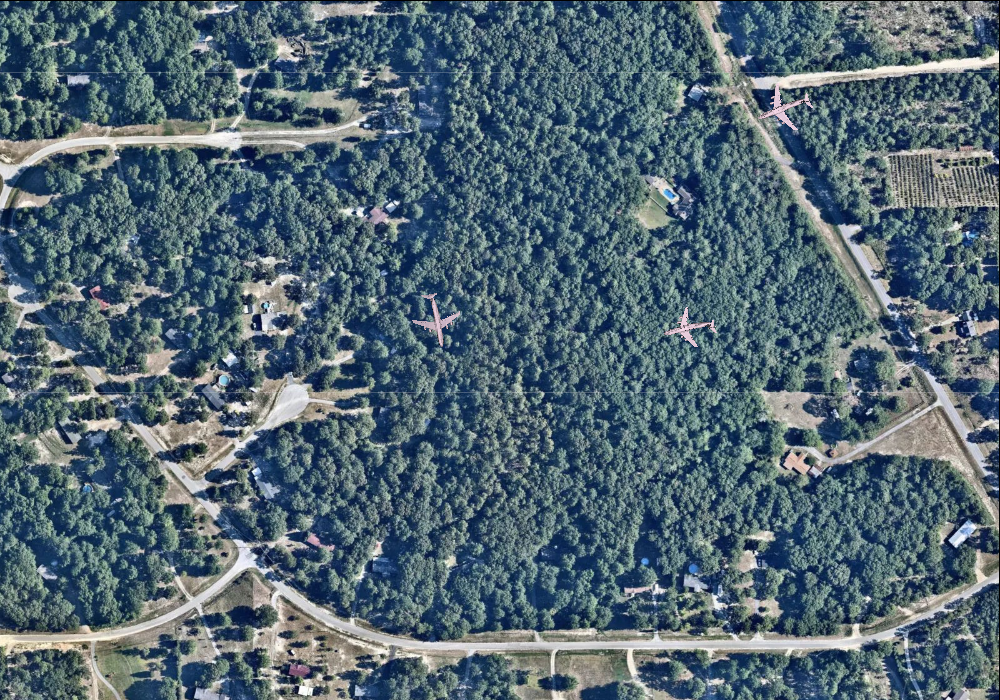plane: (748, 72, 821, 144), (404, 287, 466, 351), (658, 299, 721, 359)
